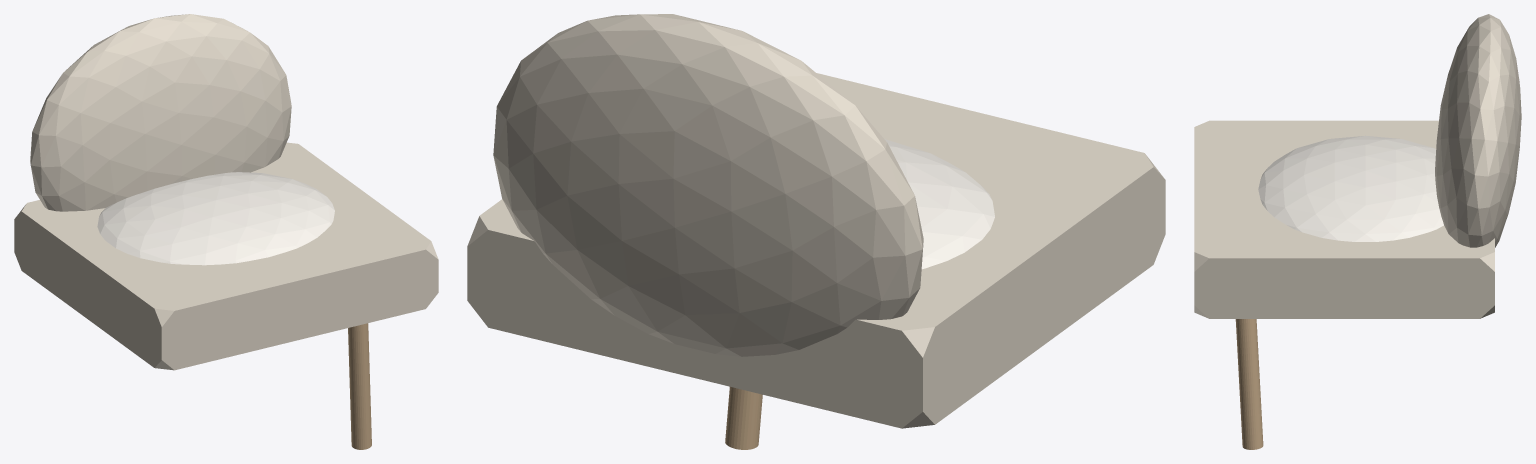
Rendered from chair.glb.
The picture shows the model from 3 angles, left to right: view 1: azimuth 30°, elevation 25°; view 2: azimuth 150°, elevation 25°; view 3: azimuth 270°, elevation 25°; orthographic projection. The views are drawn at different scales.
Parts seen in each view (by area): view 1: FABRIC_MAIN_seat, FABRIC_MAIN_back, FABRIC_LIGHT_pad, WOOD_DARK_leg; view 2: FABRIC_MAIN_back, FABRIC_MAIN_seat, FABRIC_LIGHT_pad, WOOD_DARK_leg; view 3: FABRIC_MAIN_seat, FABRIC_LIGHT_pad, FABRIC_MAIN_back, WOOD_DARK_leg.
Part boxes in pixels (x1,y1,x2,y2): FABRIC_MAIN_seat: (14,142,438,370); FABRIC_MAIN_back: (30,14,291,211); FABRIC_LIGHT_pad: (97,172,334,265); WOOD_DARK_leg: (348,323,371,449); FABRIC_MAIN_back: (493,14,923,356); FABRIC_MAIN_seat: (467,73,1165,428); FABRIC_LIGHT_pad: (884,139,994,269); WOOD_DARK_leg: (725,386,762,449); FABRIC_MAIN_seat: (1194,120,1494,318); FABRIC_LIGHT_pad: (1258,135,1443,241); FABRIC_MAIN_back: (1435,14,1521,247); WOOD_DARK_leg: (1235,319,1263,449).
Bounding box in the file's own units: 0.78 × 0.9798 × 0.7839.
